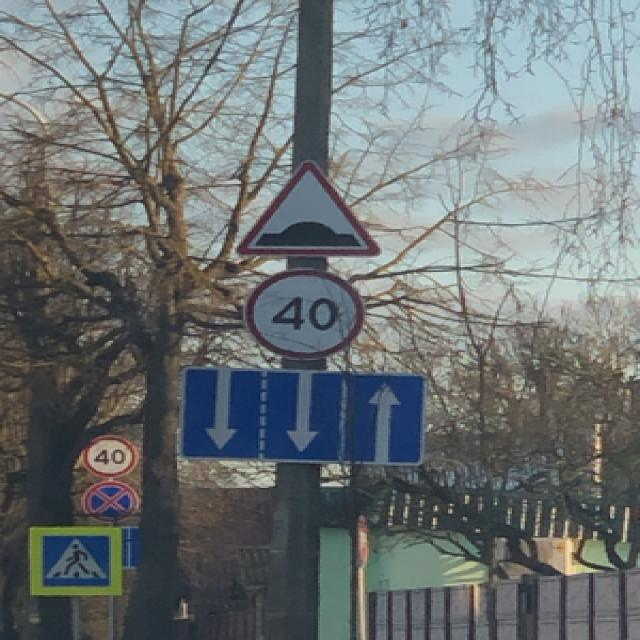crosswalk: (34, 530, 111, 587)
speedlimit: (243, 268, 365, 358), (79, 434, 132, 475)
